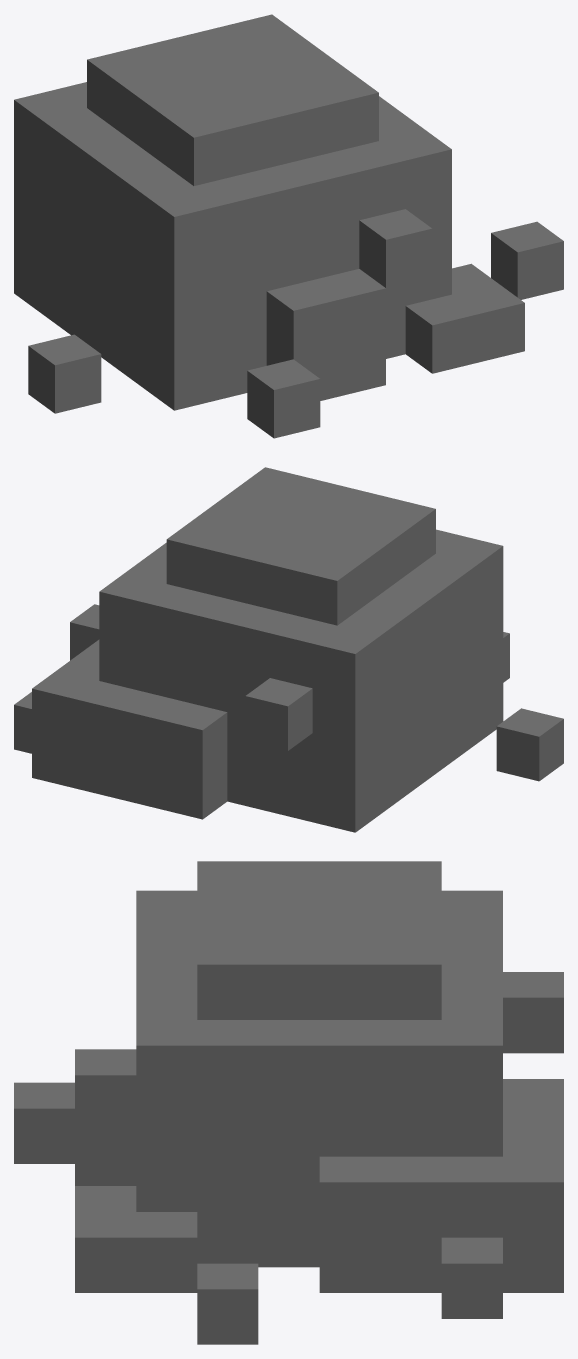
File: LargeStone01.obj
3 renders of one model, top to bottom at view 1: azimuth 30°, elevation 25°; view 2: azimuth 150°, elevation 25°; view 3: azimuth 270°, elevation 25°, orthographic. The views are drawn at different scales.
Bounding box in the file's own units: 11 × 5 × 9.
1 material, 1 textured.
